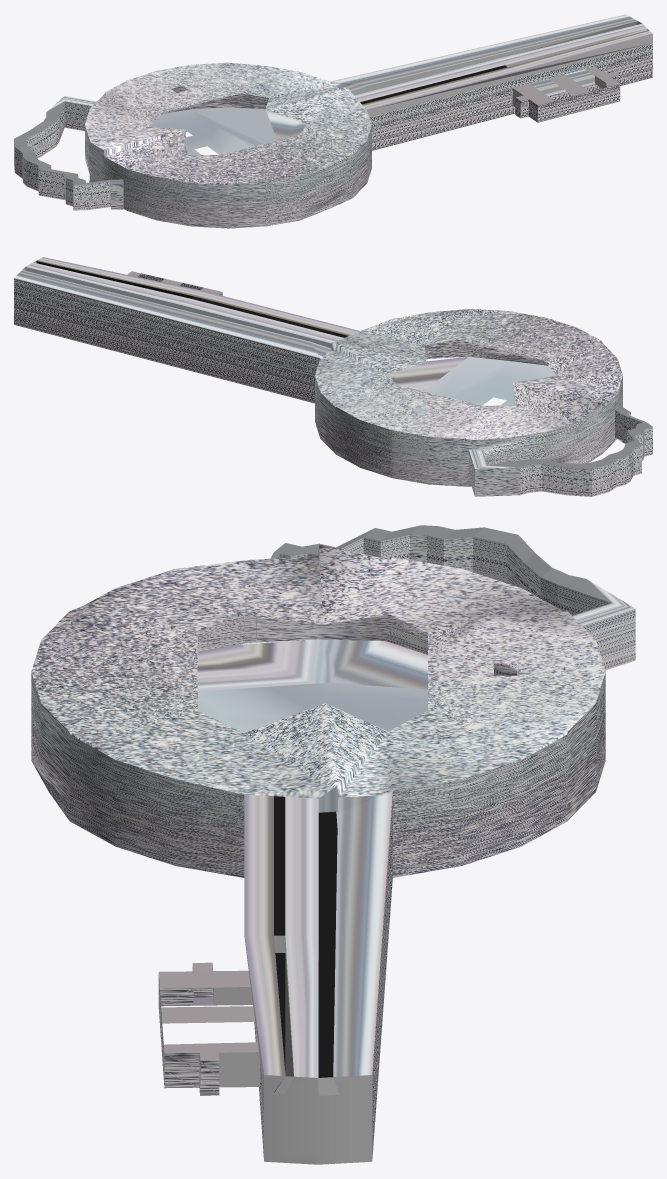
File: KEY.FBX
3 views of the same model, one above another, from view 1: azimuth 30°, elevation 25°; view 2: azimuth 150°, elevation 25°; view 3: azimuth 270°, elevation 25° (orthographic). The views are drawn at different scales.
Visible parts, largest first — view 1: Cone001; view 2: Cone001; view 3: Cone001.
Boxes of the visible parts, left/top/right/bottom form: Cone001: left=14, top=14, right=652, bottom=228; Cone001: left=14, top=257, right=652, bottom=496; Cone001: left=31, top=525, right=635, bottom=1164.
Size of the model in its own units: 14.25 by 1.1 by 6.31.
